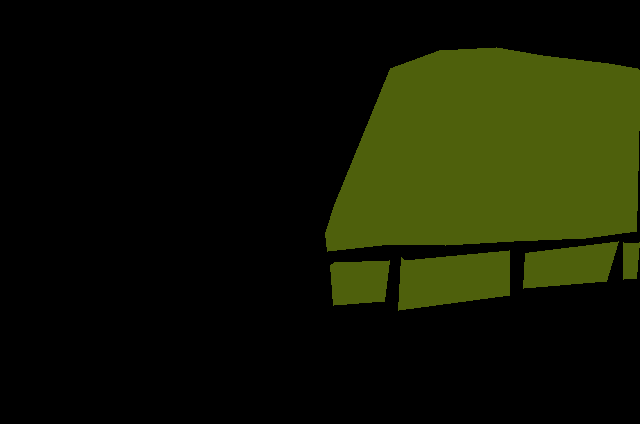Train: (325, 47, 640, 310)
